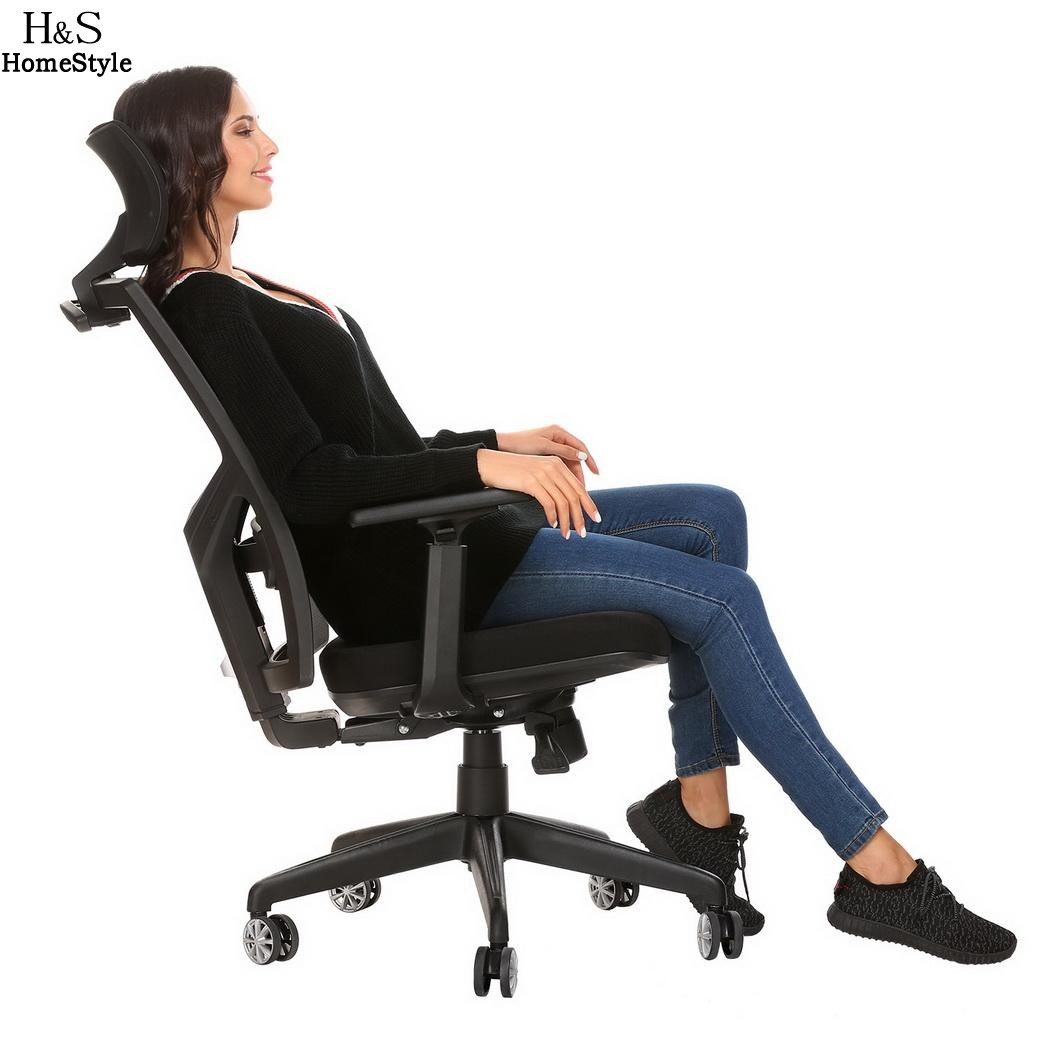chairs: (45, 118, 760, 1002)
